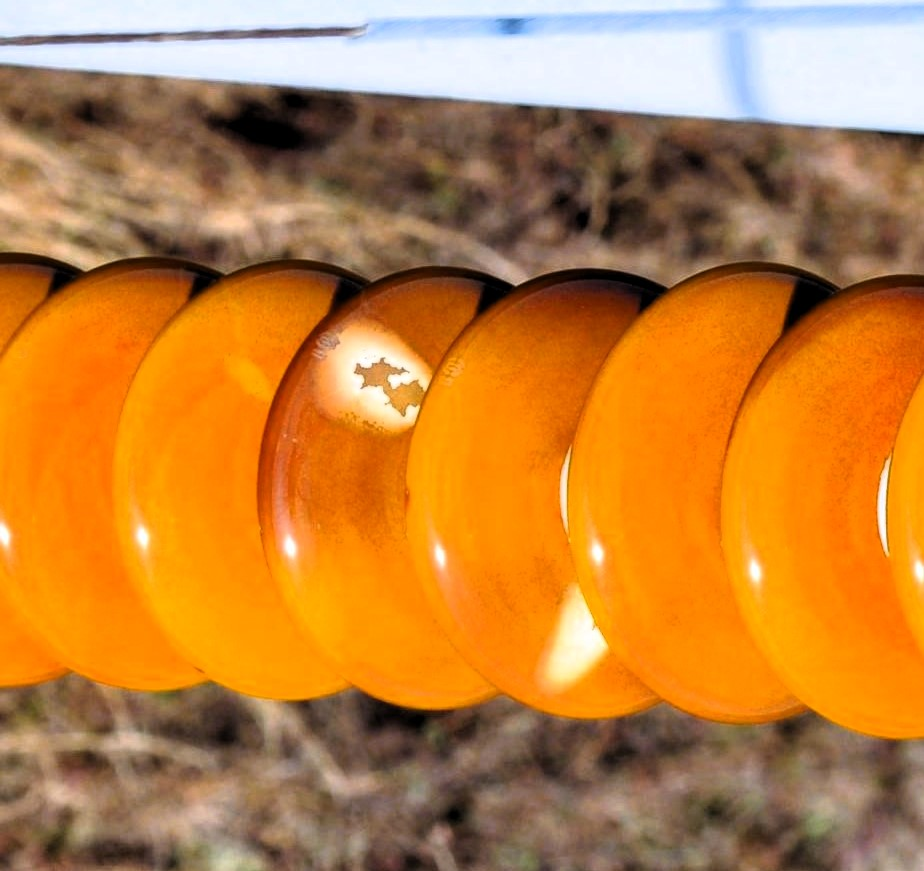Insulator flashover: (249, 258, 540, 710)
